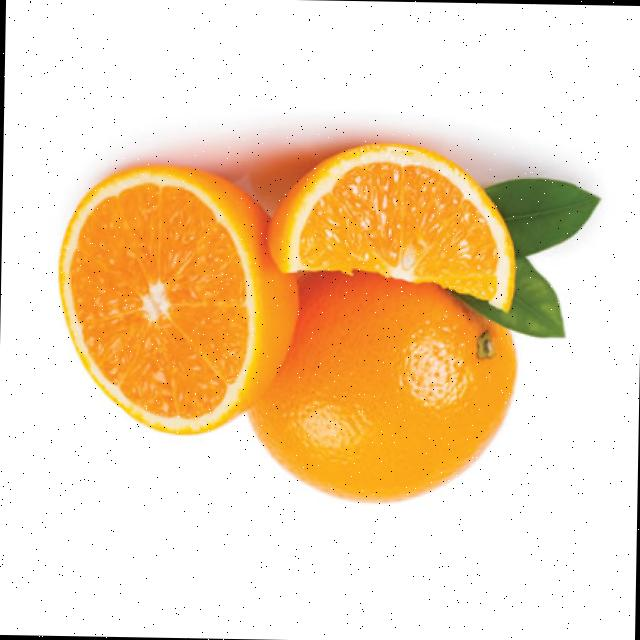Jeruk: (54, 163, 300, 439), (244, 268, 518, 507), (264, 142, 518, 314)
